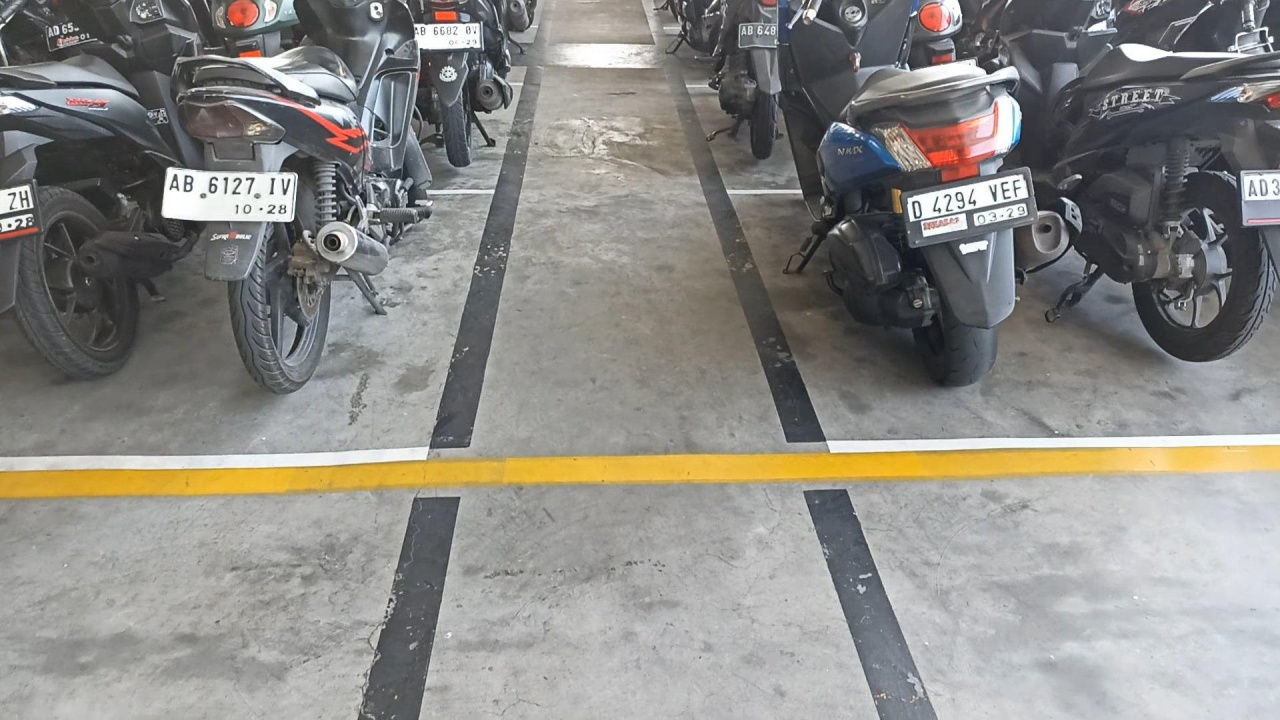plate: (903, 171, 1037, 246), (162, 167, 297, 221), (414, 23, 482, 51)
